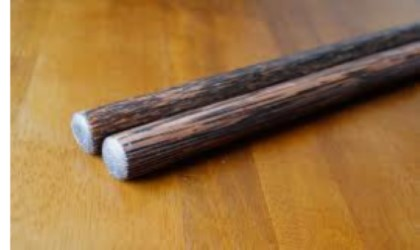baston_e: (101, 18, 414, 150), (135, 41, 414, 180)
baston_v: (98, 133, 138, 186), (68, 107, 104, 157)
